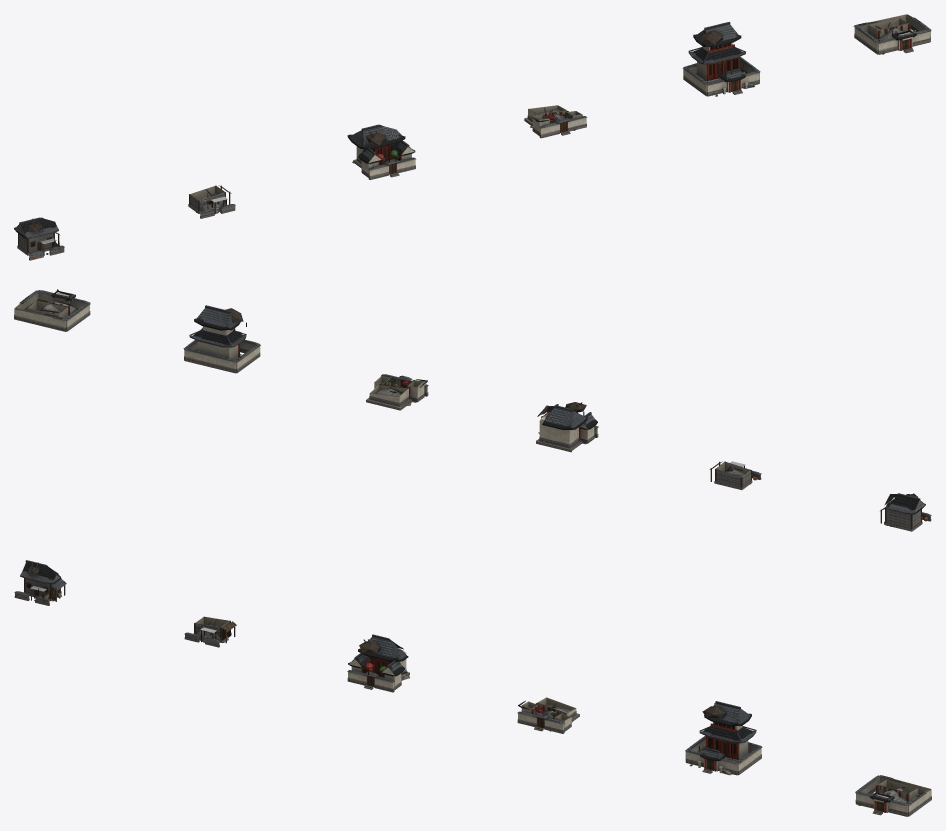
File: kingdoms-sinic-houses-damage.glb
3 renders of one model, top to bottom at view 1: azimuth 30°, elevation 25°; view 2: azimuth 150°, elevation 25°; view 3: azimuth 330°, elevation 25°, orthographic.
Parts seen in each view (by area): view 1: LOD0.004, LOD0.002, LOD0.005, LOD0, LOD0.003, LOD0.001; view 2: LOD0.004, LOD0.002, LOD0.005, LOD0.003, LOD0, LOD0.001; view 3: LOD0.004, LOD0.002, LOD0.005, LOD0.003, LOD0, LOD0.001.
Part boxes in pixels (x1,y1,x2,y2): LOD0.004: [682, 22, 760, 96]; LOD0.002: [347, 124, 416, 179]; LOD0.005: [853, 14, 931, 54]; LOD0: [14, 217, 64, 260]; LOD0.003: [524, 105, 587, 138]; LOD0.001: [188, 185, 235, 218]; LOD0.004: [183, 305, 260, 373]; LOD0.002: [536, 402, 598, 452]; LOD0.005: [14, 289, 90, 331]; LOD0.003: [366, 374, 428, 410]; LOD0: [880, 493, 931, 531]; LOD0.001: [709, 461, 761, 489]; LOD0.004: [685, 701, 762, 775]; LOD0.002: [347, 634, 409, 692]; LOD0.005: [855, 775, 931, 816]; LOD0.003: [517, 697, 579, 733]; LOD0: [14, 560, 66, 605]; LOD0.001: [184, 616, 236, 647].
Size of what is drawn, in the model's own units: 15.81 by 0.8954 by 0.9095.
Materials: 3 (3 with a texture image).
